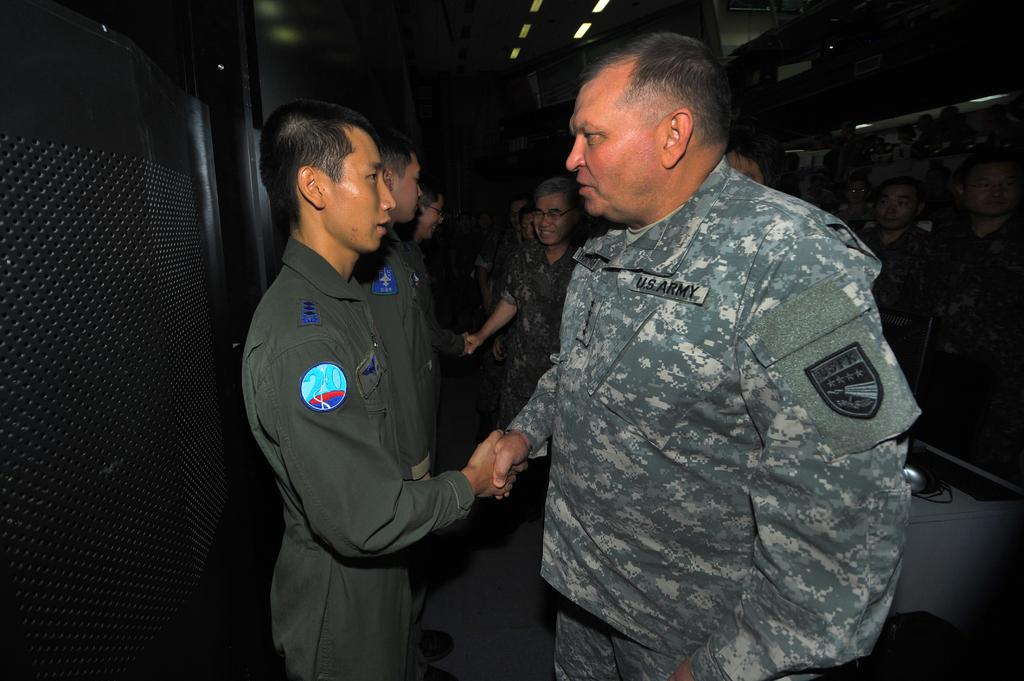Sem Máscara: (565, 83, 660, 213), (322, 133, 393, 245), (960, 159, 1014, 210), (385, 152, 422, 217), (531, 194, 573, 237), (870, 184, 912, 226), (413, 192, 445, 234)
